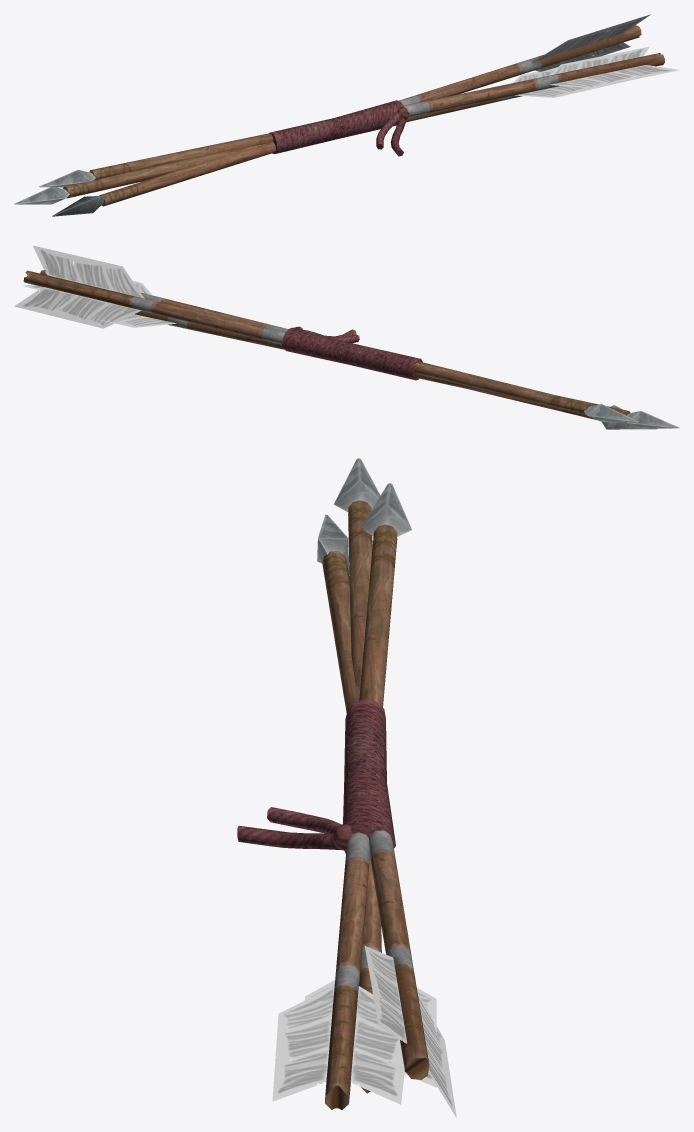
3 views of the same model, one above another, from view 1: azimuth 30°, elevation 25°; view 2: azimuth 150°, elevation 25°; view 3: azimuth 270°, elevation 25° (orthographic). The views are drawn at different scales.
Parts seen in each view (by area): view 1: SM_Arrow_Stack_01_LOD0; view 2: SM_Arrow_Stack_01_LOD0; view 3: SM_Arrow_Stack_01_LOD0.
Boxes of the visible parts, box(x1,y1,x2,y2) form: SM_Arrow_Stack_01_LOD0: box(14, 14, 679, 216); SM_Arrow_Stack_01_LOD0: box(14, 245, 679, 429); SM_Arrow_Stack_01_LOD0: box(237, 458, 456, 1117).
Bounding box in the file's own units: 0.9909 × 0.0749 × 0.1457.
1 material, 1 textured.
